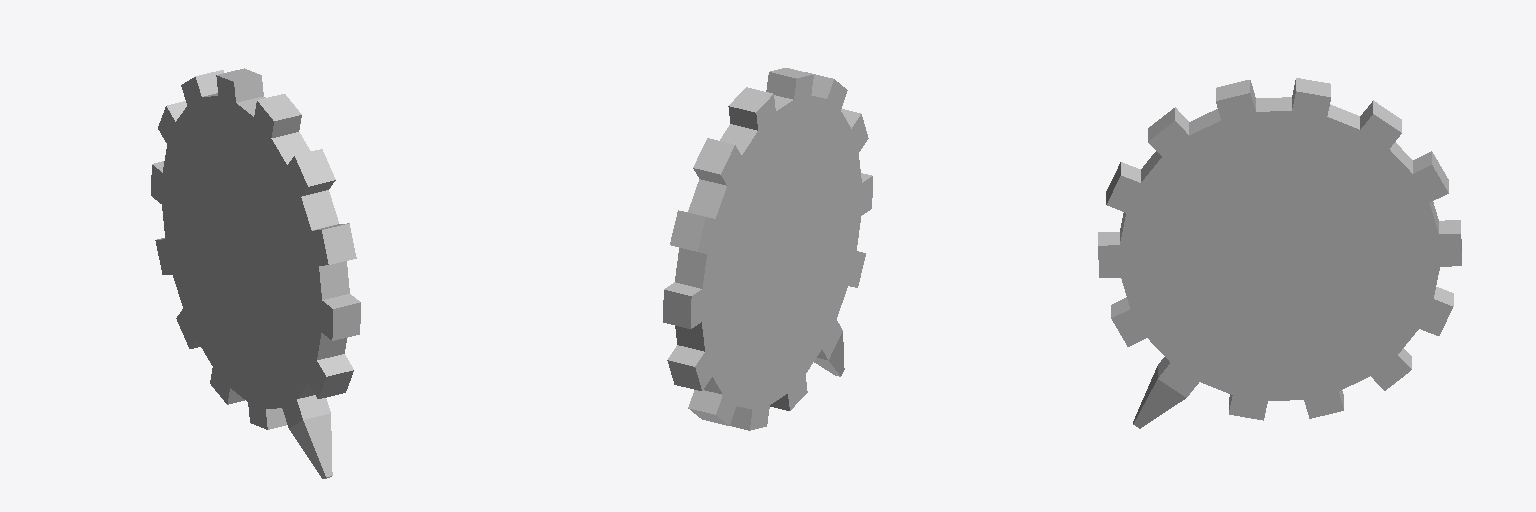
File: gear_000009.obj
3 renders of one model, left to right at view 1: azimuth 30°, elevation 25°; view 2: azimuth 150°, elevation 25°; view 3: azimuth 270°, elevation 25°, orthographic.
Parts seen in each view (by area): view 1: gear_Cylinder.001; view 2: gear_Cylinder.001; view 3: gear_Cylinder.001.
Part boxes in pixels (bbox=[...]): gear_Cylinder.001: bbox=[151, 68, 360, 478]; gear_Cylinder.001: bbox=[663, 68, 872, 430]; gear_Cylinder.001: bbox=[1098, 78, 1461, 428].
Size of the model in its own units: 0.1 by 1.18 by 1.13.